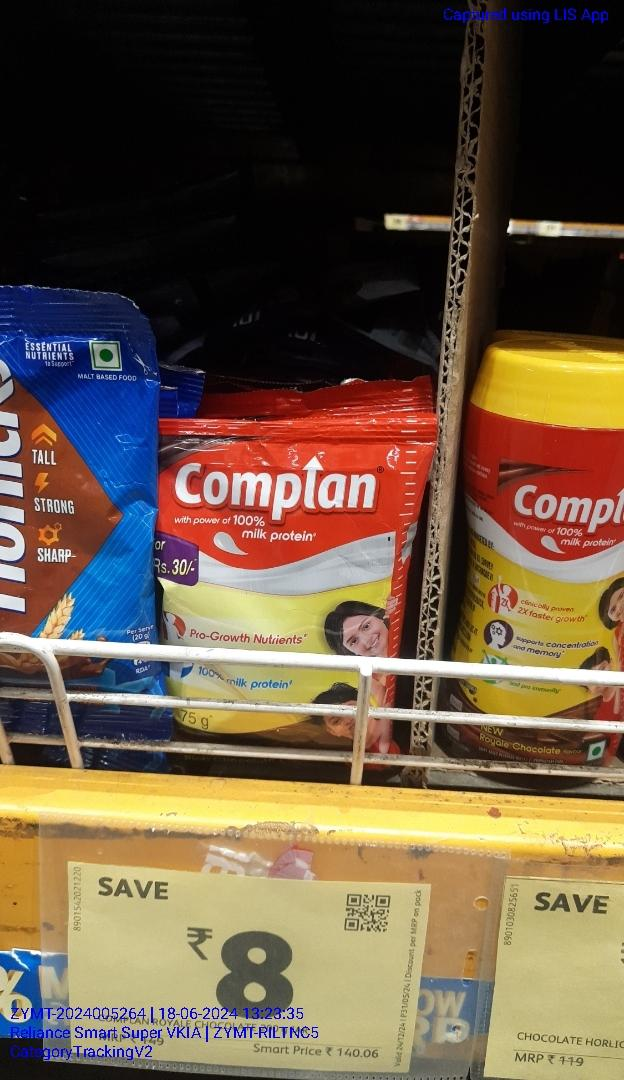COMPLAN_CHOCOLATE_200_GMS_JAR: (447, 336, 624, 791)
